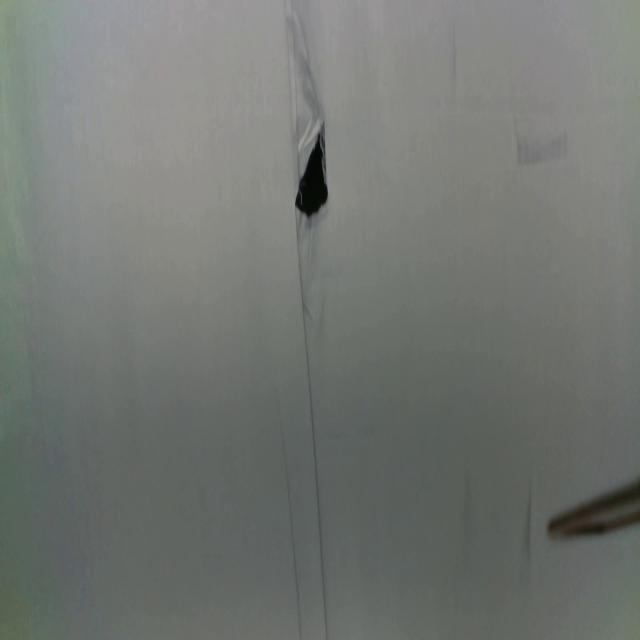crease: (297, 236, 330, 635), (273, 396, 304, 638)
hole: (295, 118, 330, 221)
